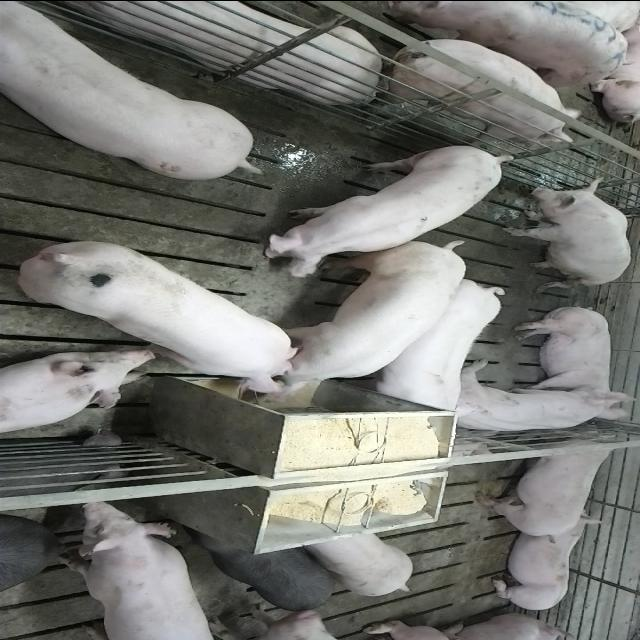Feeding: (16, 238, 302, 400), (254, 236, 470, 402)
Lateral_lying: (510, 302, 634, 414)
Sitting: (499, 176, 633, 286), (447, 369, 630, 435)
Standing: (0, 0, 257, 176), (260, 140, 520, 272), (365, 19, 579, 142), (56, 499, 226, 638), (372, 0, 634, 87), (363, 276, 510, 414), (472, 434, 620, 540), (183, 528, 339, 610), (304, 531, 414, 596)
Sternal_lying: (0, 349, 158, 436), (486, 516, 604, 612)
